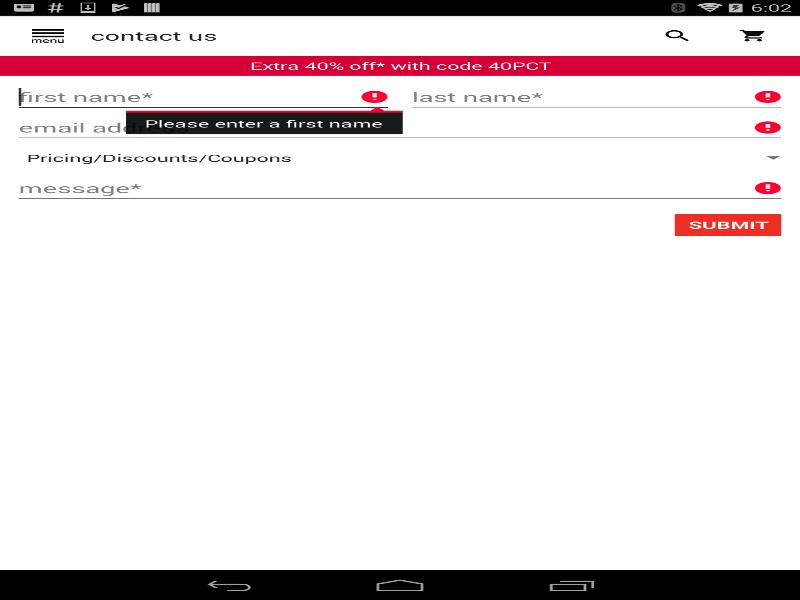Button: (669, 210, 786, 240), (10, 15, 85, 55)
Input: (13, 112, 786, 143), (13, 173, 786, 203), (13, 81, 393, 112), (406, 81, 786, 112)
